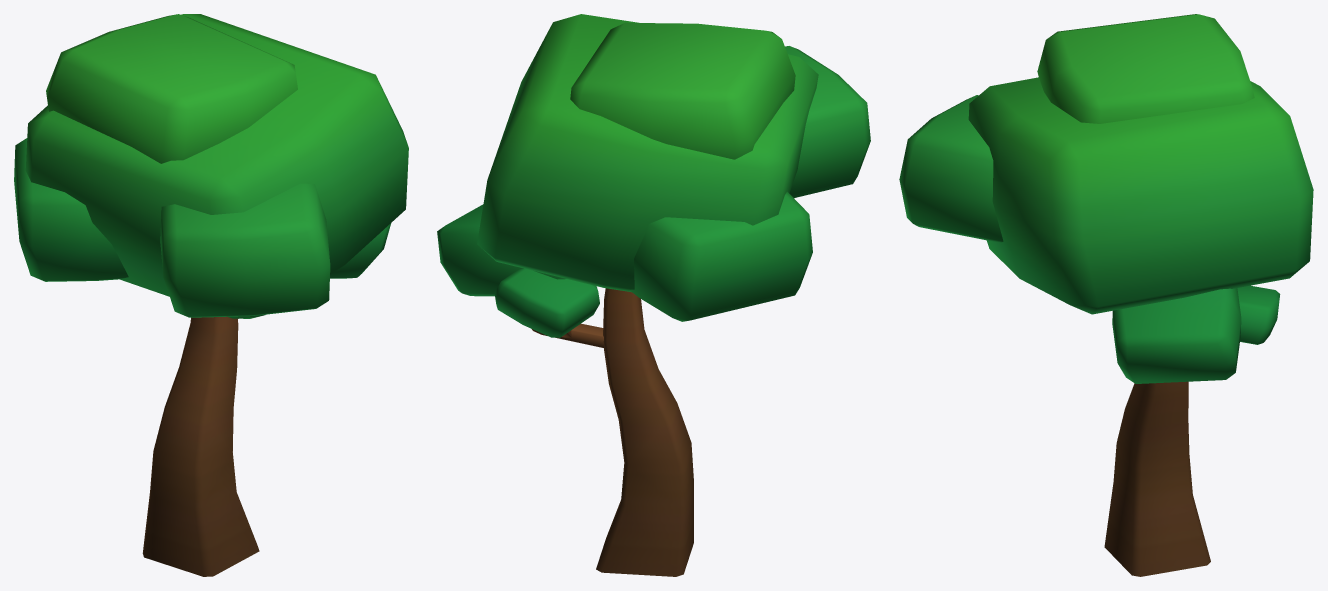
The model's file is Tree_D_6_.fbx.
3 views of the same model, side by side, from view 1: azimuth 30°, elevation 25°; view 2: azimuth 150°, elevation 25°; view 3: azimuth 270°, elevation 25° (orthographic). The views are drawn at different scales.
Visible parts, largest first — view 1: Tree_D_6; view 2: Tree_D_6; view 3: Tree_D_6.
Part boxes in pixels (x1,y1,x2,y2): Tree_D_6: [14, 14, 408, 576]; Tree_D_6: [437, 14, 870, 576]; Tree_D_6: [899, 14, 1313, 576].
Bounding box in the file's own units: 286 × 399 × 305.
